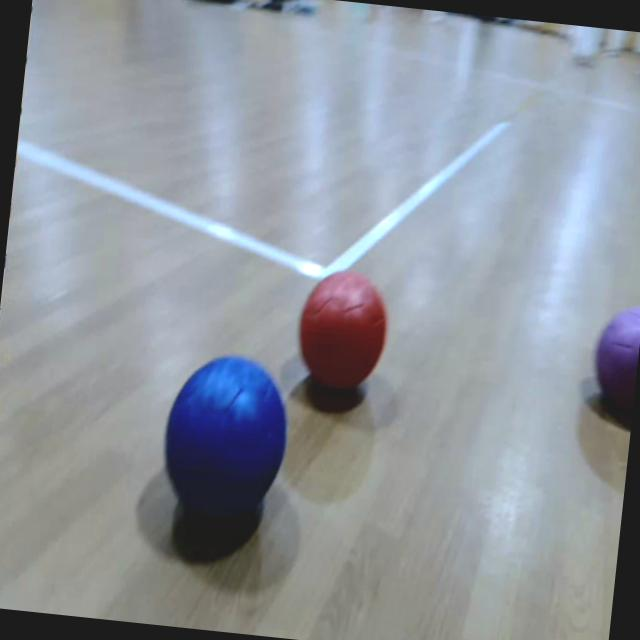blue_ball: (157, 350, 294, 518)
purple_ball: (589, 303, 640, 413)
red_ball: (293, 267, 393, 395)
